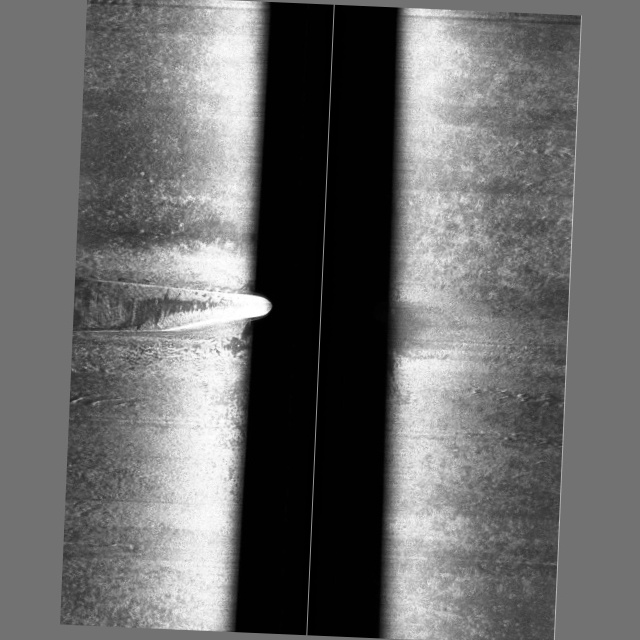Shipwreck: (71, 277, 272, 340)
